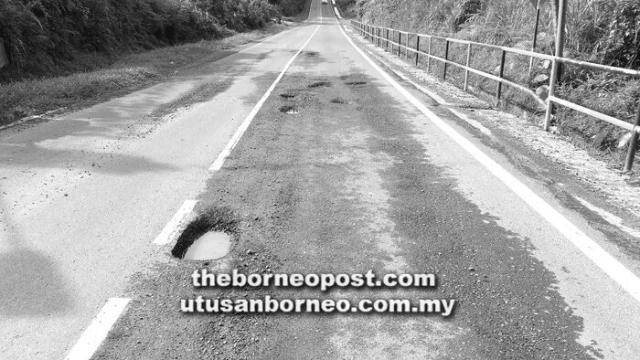Pothole: (168, 223, 236, 263), (278, 105, 302, 116), (308, 80, 330, 90), (330, 99, 352, 107), (344, 80, 366, 88), (280, 93, 296, 100), (340, 74, 350, 80)
